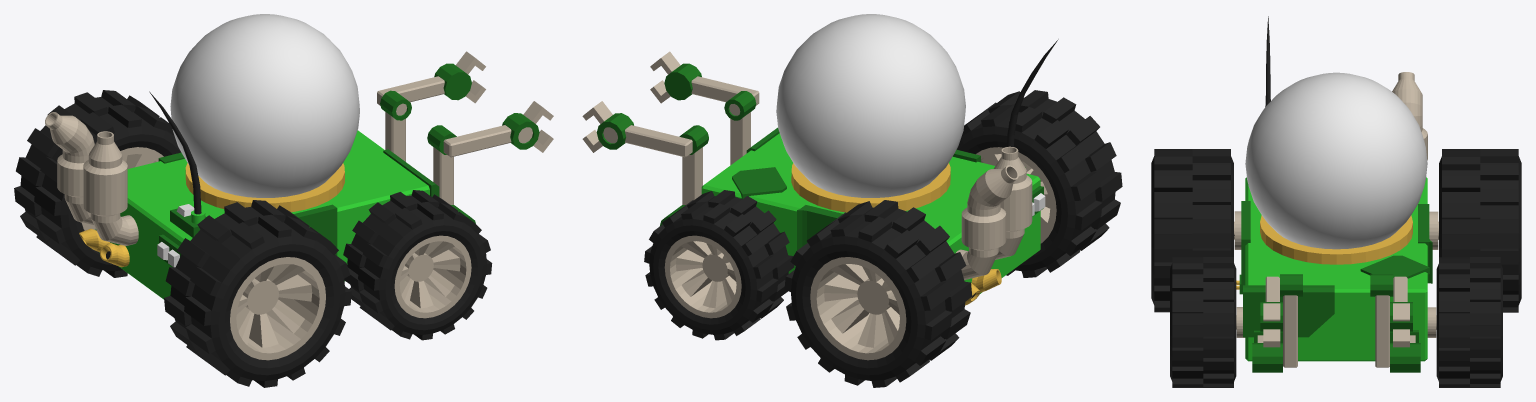
Rendered from Pisces Carper Mechsuit_2.fbx.
3 renders of one model, left to right at view 1: azimuth 30°, elevation 25°; view 2: azimuth 150°, elevation 25°; view 3: azimuth 270°, elevation 25°, orthographic. The views are drawn at different scales.
Parts seen in each view (by area): view 1: Fishbowl, Fishmech_1 Wheel BR, Fishmech_1, Fishmech_1 Wheel FR, Fishmech_1 Wheel BL, Fishmech_1 Arm R, Fishmech_1 Arm L; view 2: Fishbowl, Fishmech_1 Wheel BL, Fishmech_1, Fishmech_1 Wheel FL, Fishmech_1 Wheel BR, Fishmech_1 Arm L, Fishmech_1 Arm R; view 3: Fishbowl, Fishmech_1, Fishmech_1 Wheel BL, Fishmech_1 Wheel BR, Fishmech_1 Wheel FL, Fishmech_1 Wheel FR, Fishmech_1 Arm L, Fishmech_1 Arm R.
Part boxes in pixels (x1,y1,x2,y2): Fishbowl: (170,14,359,197); Fishmech_1 Wheel BR: (164,200,351,387); Fishmech_1: (45,91,439,299); Fishmech_1 Wheel FR: (343,190,492,340); Fishmech_1 Wheel BL: (14,90,181,277); Fishmech_1 Arm R: (427,101,553,223); Fishmech_1 Arm L: (377,51,485,161); Fishbowl: (776,14,965,197); Fishmech_1 Wheel BL: (784,200,972,387); Fishmech_1: (701,39,1058,305); Fishmech_1 Wheel FL: (644,190,794,340); Fishmech_1 Wheel BR: (957,90,1122,277); Fishmech_1 Arm L: (582,101,708,226); Fishmech_1 Arm R: (650,51,759,165); Fishbowl: (1245,72,1427,249); Fishmech_1: (1236,16,1432,361); Fishmech_1 Wheel BL: (1429,149,1521,312); Fishmech_1 Wheel BR: (1151,149,1241,312); Fishmech_1 Wheel FL: (1427,257,1502,387); Fishmech_1 Wheel FR: (1170,257,1245,387); Fishmech_1 Arm L: (1370,274,1420,372); Fishmech_1 Arm R: (1252,274,1302,372).
Size of the model in its own units: 2104 by 1270 by 1626.
